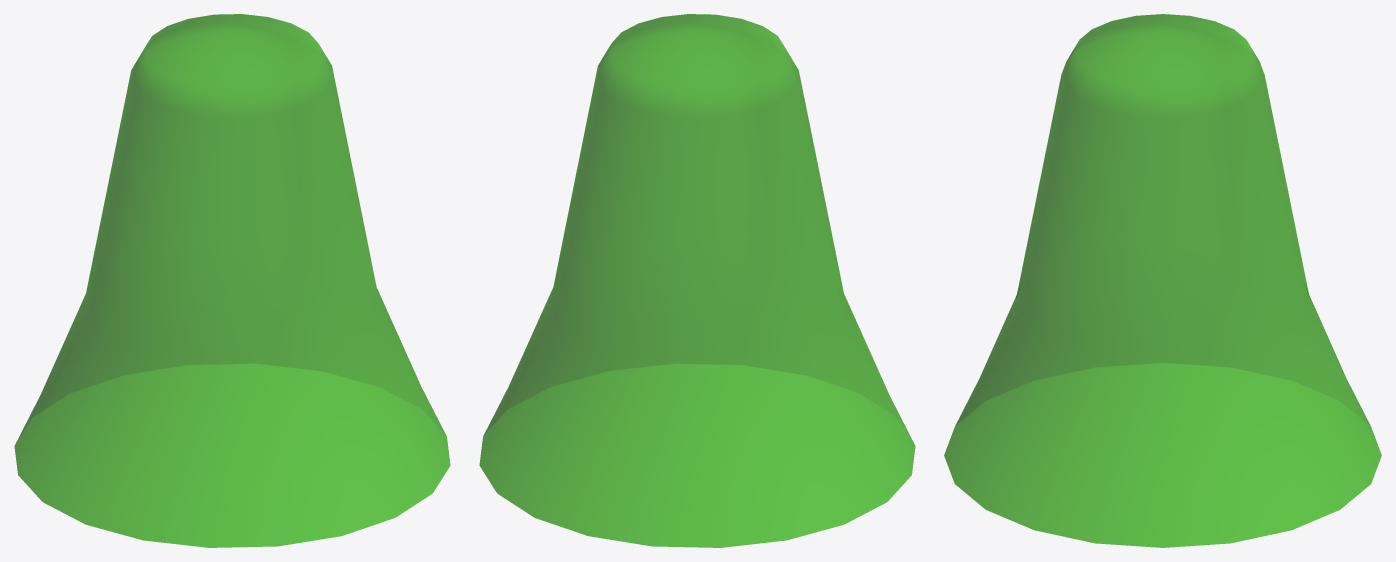
The model's file is slime.fbx.
3 renders of one model, left to right at view 1: azimuth 30°, elevation 25°; view 2: azimuth 150°, elevation 25°; view 3: azimuth 270°, elevation 25°, orthographic.
Parts seen in each view (by area): view 1: slime; view 2: slime; view 3: slime.
Part boxes in pixels (bbox=[...]): slime: bbox=[14, 14, 450, 547]; slime: bbox=[479, 14, 915, 547]; slime: bbox=[944, 14, 1381, 547].
Bounding box in the file's own units: 0.5383 × 0.5758 × 0.5383.
